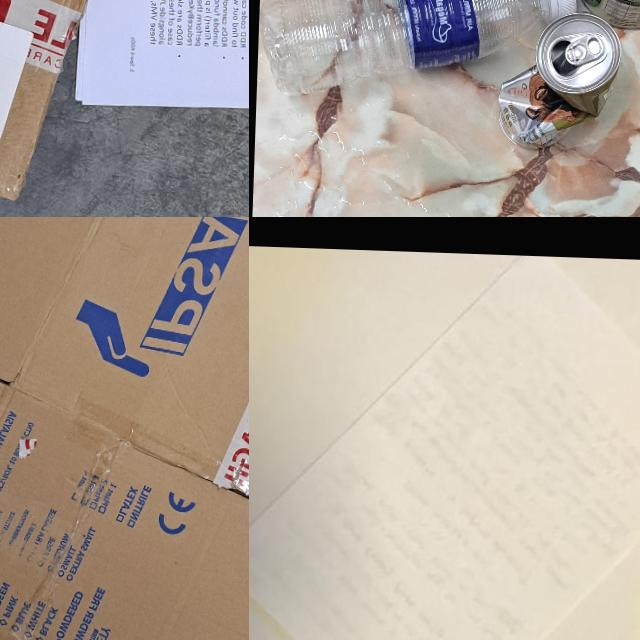aba de lata: (565, 34, 607, 64)
garrafa plástica: (257, 0, 545, 103)
lata: (496, 8, 624, 152)
papel: (249, 244, 640, 640), (63, 0, 249, 217)
papelão: (0, 217, 249, 640), (0, 0, 148, 202)
tampa plástica: (548, 0, 577, 19)
